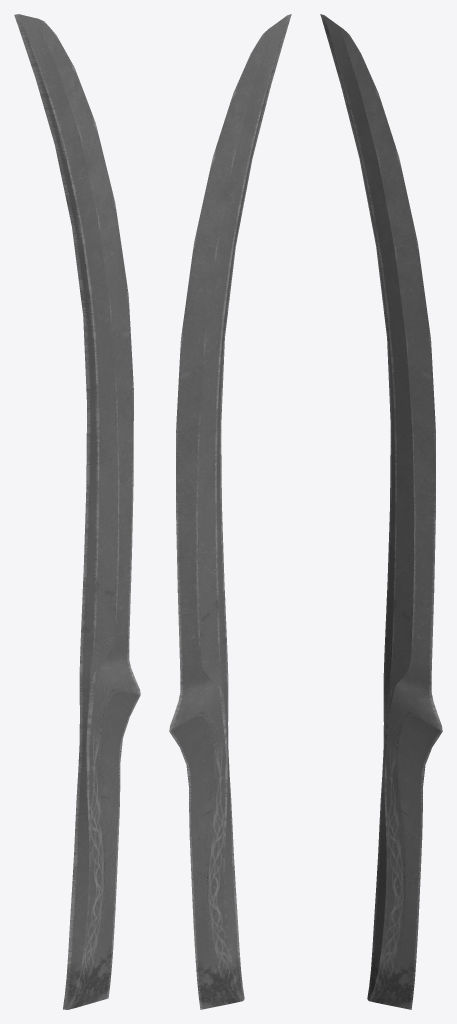
The model's file is wm_rivendell_sword_a02_silver_blade.fbx.
3 views of the same model, side by side, from view 1: azimuth 30°, elevation 25°; view 2: azimuth 210°, elevation 25°; view 3: azimuth 330°, elevation 25° (orthographic). The views are drawn at different scales.
Visible parts, largest first — view 1: wm_rivendell_sword_a02_silver_blade; view 2: wm_rivendell_sword_a02_silver_blade; view 3: wm_rivendell_sword_a02_silver_blade.
Boxes of the visible parts, x1=… form: wm_rivendell_sword_a02_silver_blade: x1=14, y1=14, x2=140, y2=1009; wm_rivendell_sword_a02_silver_blade: x1=169, y1=14, x2=291, y2=1009; wm_rivendell_sword_a02_silver_blade: x1=320, y1=14, x2=442, y2=1009.
Size of the model in its own units: 0.1148 by 0.0116 by 0.8726.
1 material, 1 textured.
